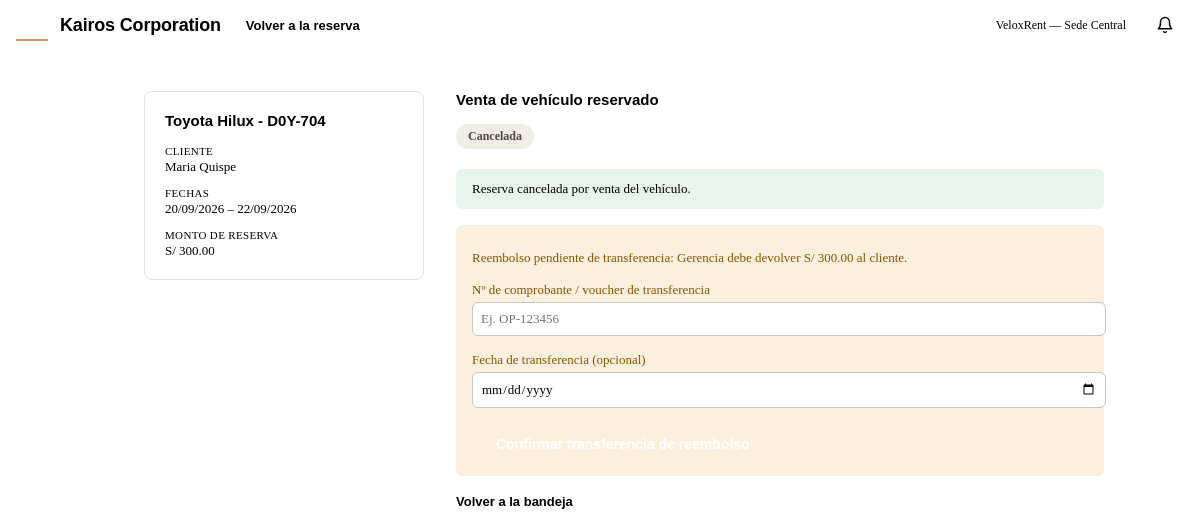
ReservationSaleScreen (RES-07) › CANCELLED con PENDING_TRANSFER: permite ingresar comprobante y confirmar la transferencia
Expected: the text "Reembolso pendiente de transferencia" is shown, left=472, top=250, right=818, bottom=265
Expected: the button with test id "confirm-transfer-btn" is disabled, left=472, top=424, right=774, bottom=464
Type "OP-123456" into the field with test id "transfer-voucher-input" at {"x": 789, "y": 319}, box left=472, top=302, right=1106, bottom=336
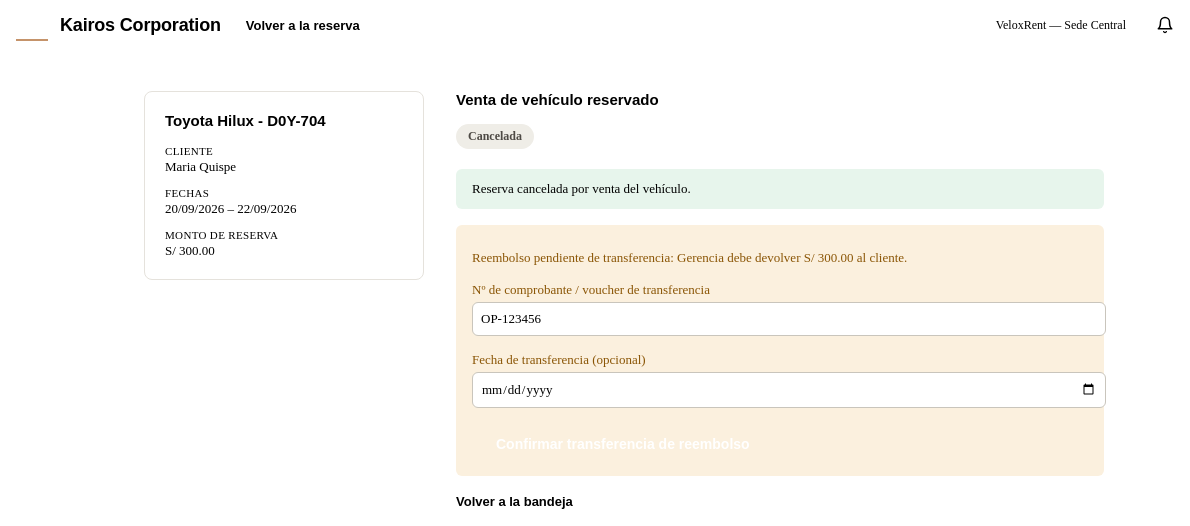
Click the button with test id "confirm-transfer-btn" at {"x": 623, "y": 444}, box left=472, top=424, right=774, bottom=464
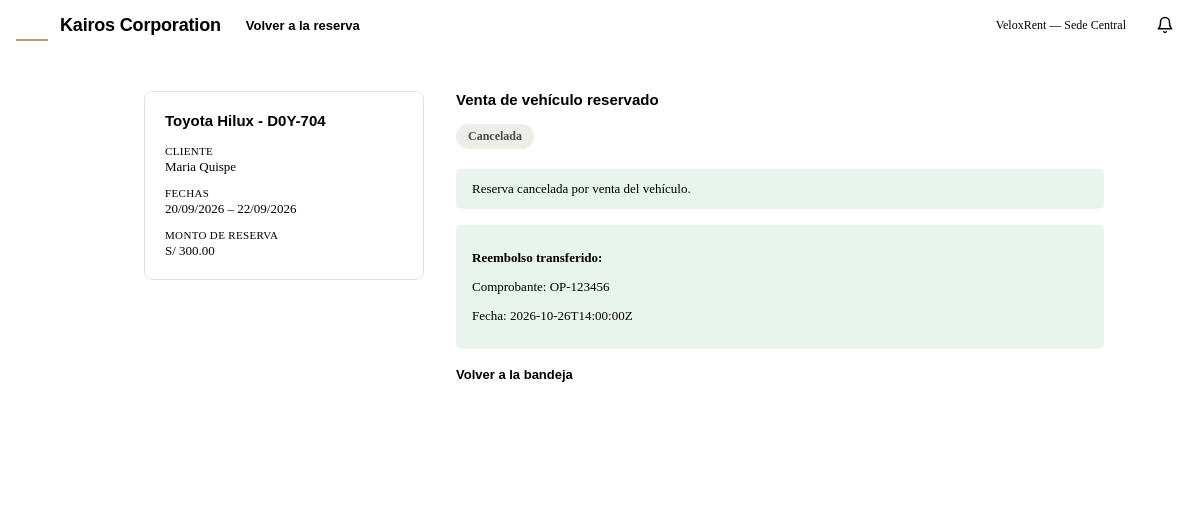
Result: the text "Reembolso transferido:" is shown at left=472, top=250, right=602, bottom=265
Result: the text "Comprobante: OP-123456" is shown at left=472, top=279, right=610, bottom=294
